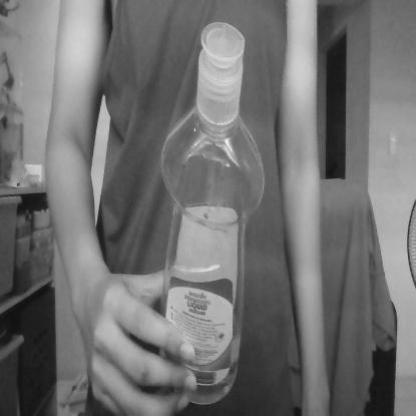Plastic Bottle: (153, 16, 267, 408)
